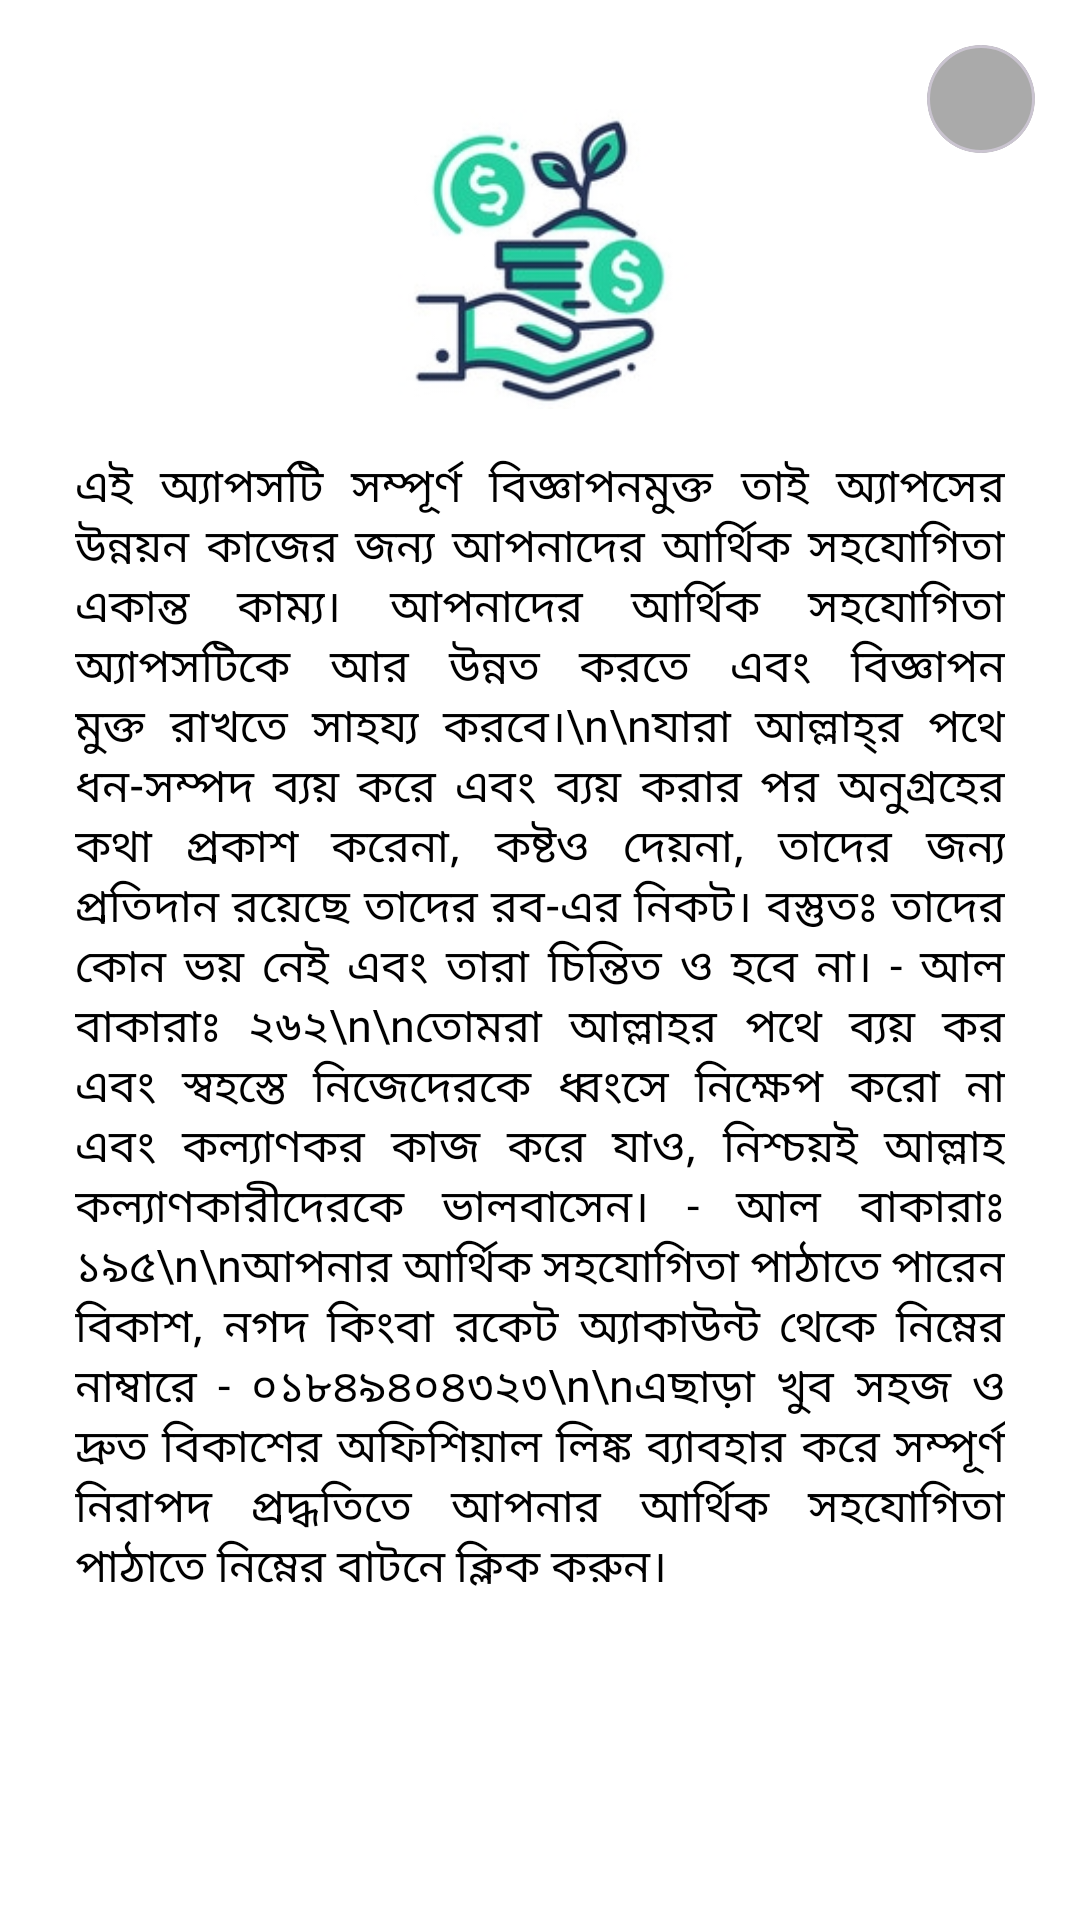

Locate icon controls on the screen. Image size 1080 × 1920, boxes as (x1, y1, x2, y2).
donation: (415, 120, 665, 402)
